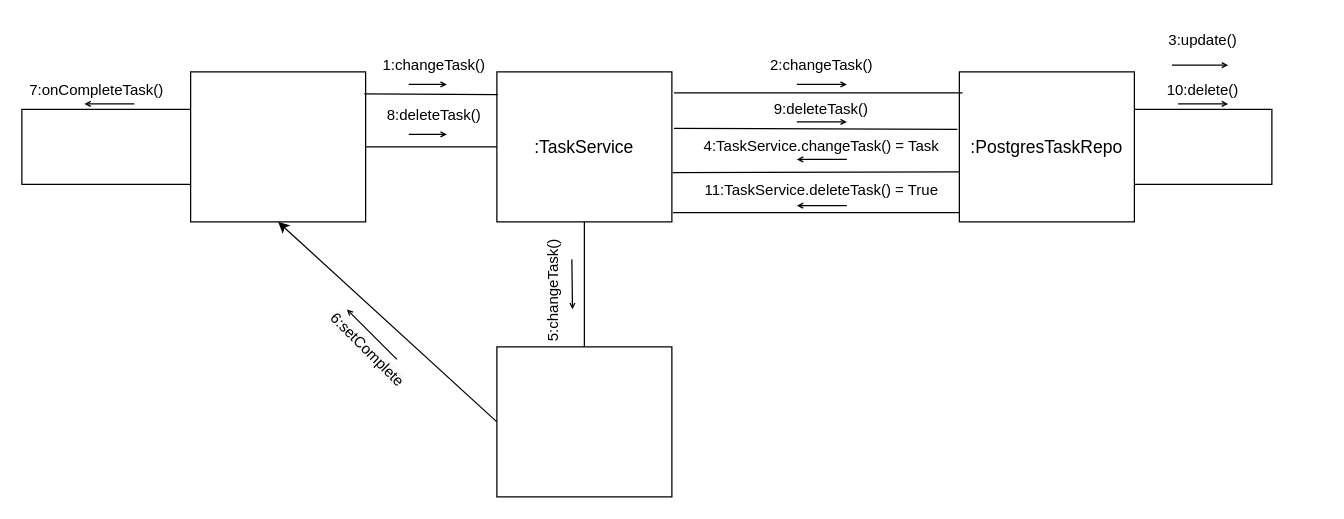
Some shapes in this 1344 by 519 pixel diagram are drawn without their labels. Each missing label, with the centre of its shape:
:Task: point (584, 421)
:TaskController: point (277, 146)
